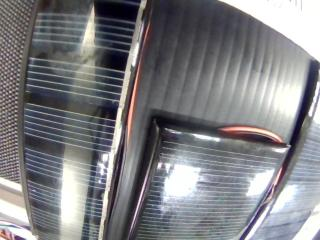solarboard: (24, 0, 139, 240), (128, 120, 288, 240), (246, 84, 320, 240)
